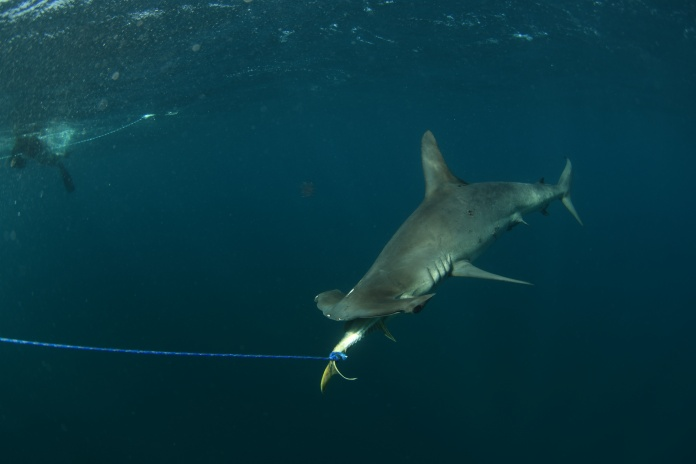Hammer: (283, 122, 621, 332)
